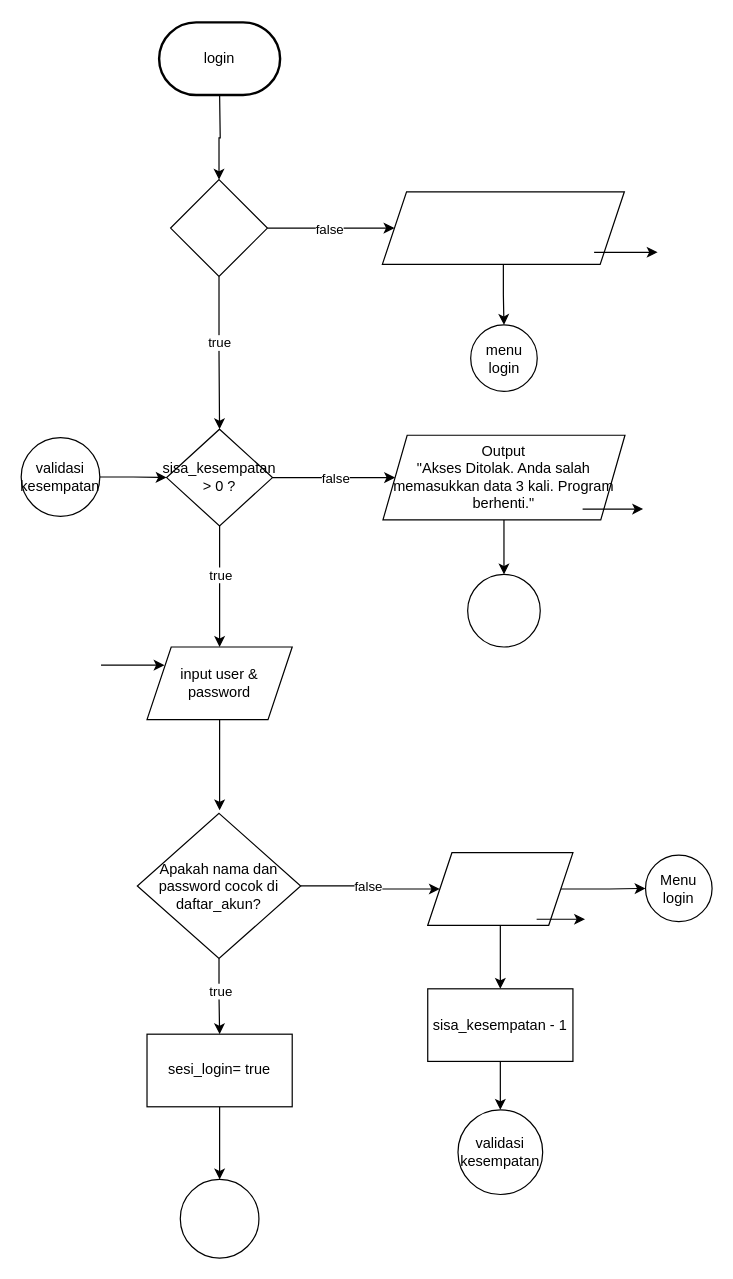
Some shapes in this 733 by 1279 pixel diagram are drawn without their labels. Here are the shapes that lost their labels. From the top down, the centre of each, then its label:
(218,227): cek user > 0?
(502,227): Output "Belum ada pengguna, silakan registrasi dahulu."
(503,610): exit program
(500,888): Output "Username atau password salah."
(219,1218): menu manajemen pegawai
